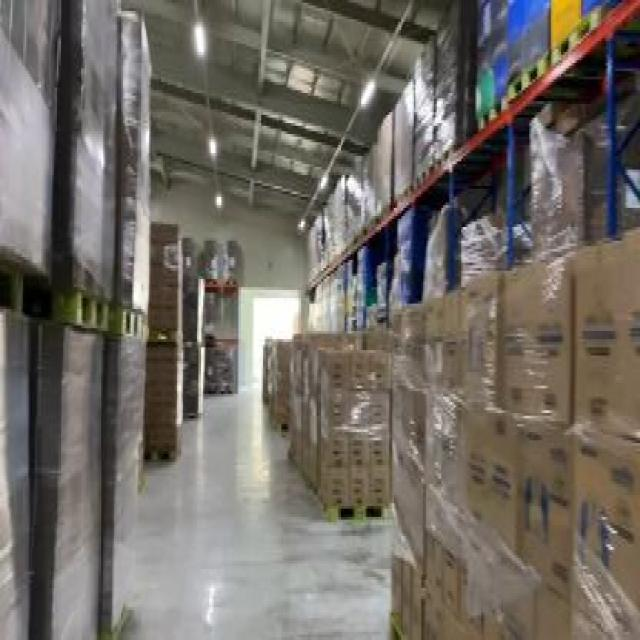box: (2, 2, 146, 634), (386, 279, 639, 637), (254, 334, 391, 525), (528, 109, 624, 260), (142, 213, 183, 460), (391, 205, 449, 312), (432, 5, 472, 150), (457, 202, 518, 290), (175, 271, 211, 418), (408, 44, 434, 175), (389, 93, 417, 200), (177, 230, 237, 276), (346, 145, 376, 235), (372, 107, 394, 216), (323, 180, 348, 266), (203, 339, 237, 399), (300, 208, 325, 279)
